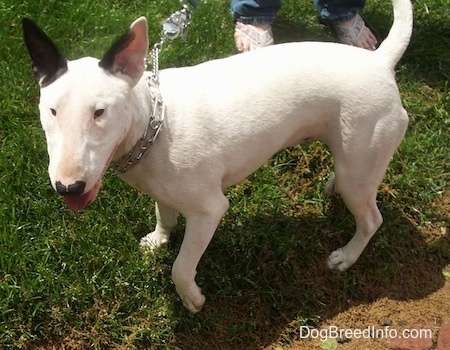bull_terrier: (20, 0, 414, 315)
